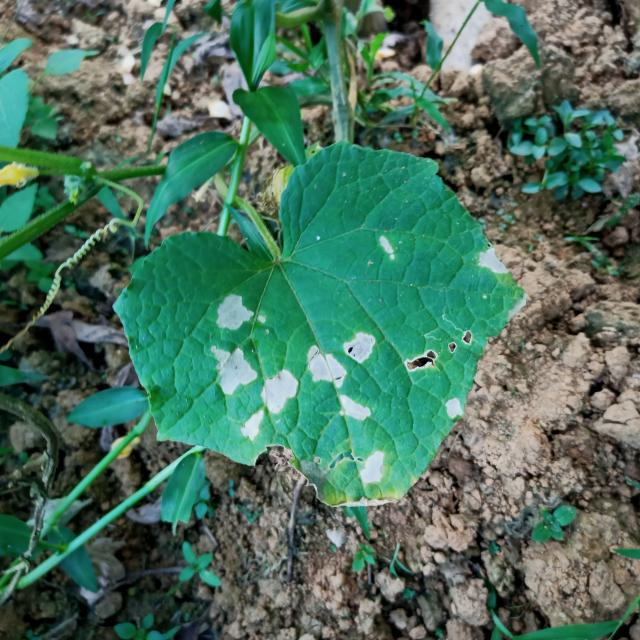disease_cucumber: (306, 331, 378, 390), (242, 371, 300, 442), (402, 322, 472, 376), (207, 344, 260, 395), (215, 292, 268, 332), (336, 393, 373, 424), (359, 448, 384, 486), (477, 248, 508, 274), (374, 236, 397, 260), (443, 397, 464, 421)
